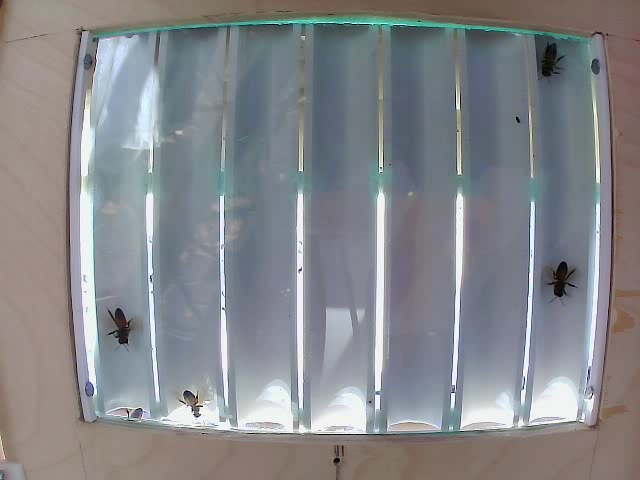bee: (540, 249, 571, 291), (106, 312, 141, 346), (532, 49, 558, 92), (178, 384, 211, 417)
